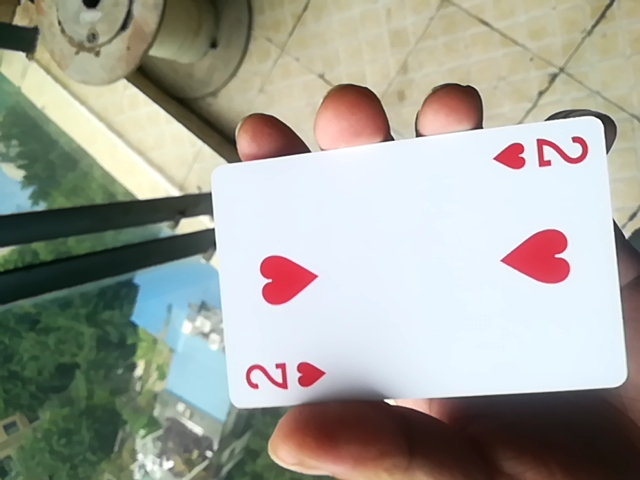hx 2: (202, 116, 625, 419)
